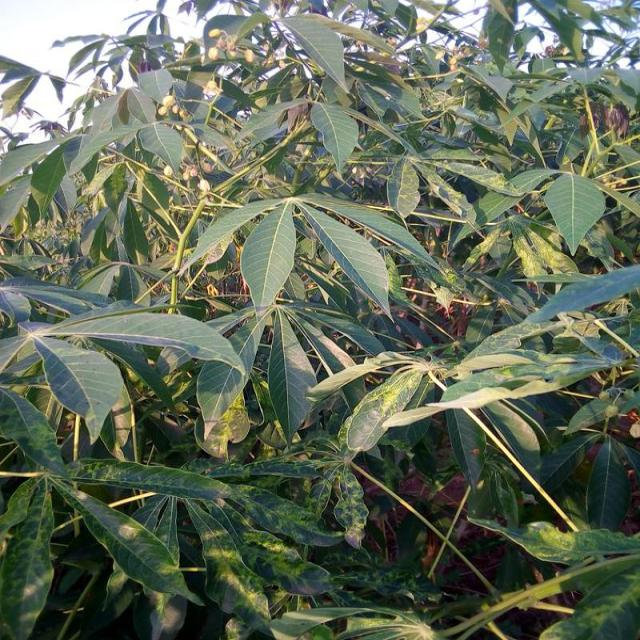cassava leaf: (2, 1, 639, 638), (342, 362, 427, 454), (240, 198, 298, 310), (545, 171, 607, 256)
